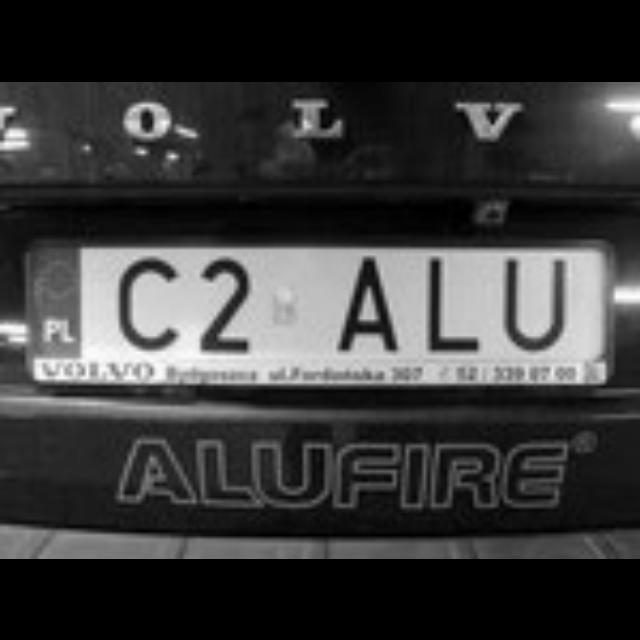licenseplate: (31, 240, 602, 359)
